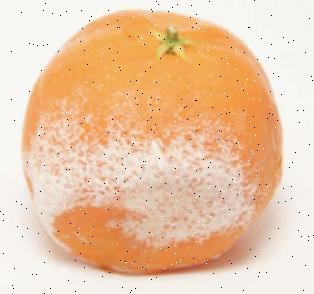Orange Rotten: (20, 8, 296, 283)
